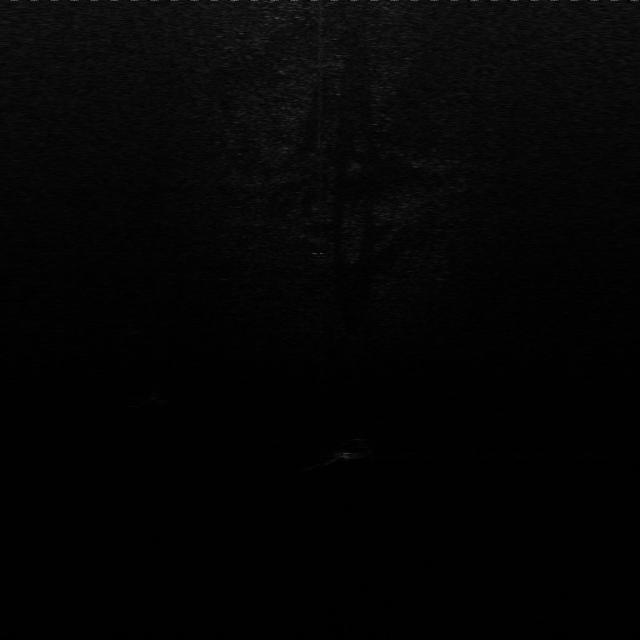tyre: (327, 431, 377, 465)
